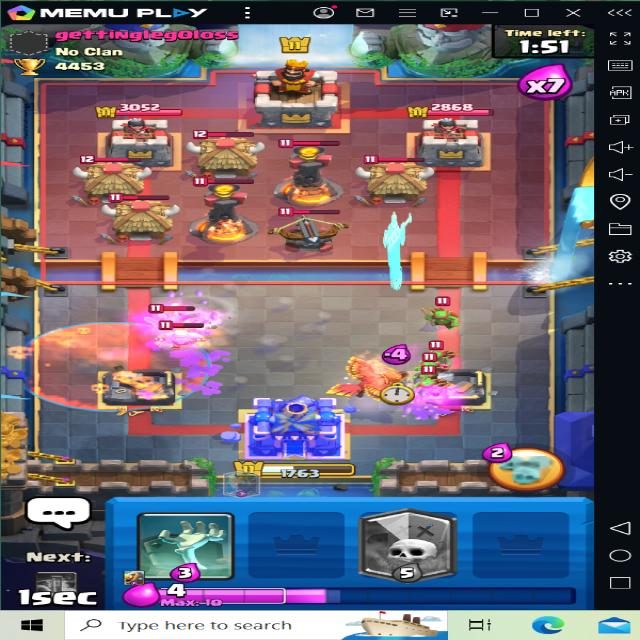barbarian: (143, 296, 195, 326), (154, 324, 197, 355)
goblin-hut: (102, 188, 185, 240), (187, 126, 266, 178), (363, 152, 434, 204), (80, 155, 156, 201)
inferno-tower: (188, 172, 274, 250), (278, 136, 342, 201)
spear-goblin: (422, 304, 458, 338), (410, 365, 442, 397), (412, 354, 446, 378), (422, 338, 451, 362)
x-bow: (269, 200, 348, 251)
